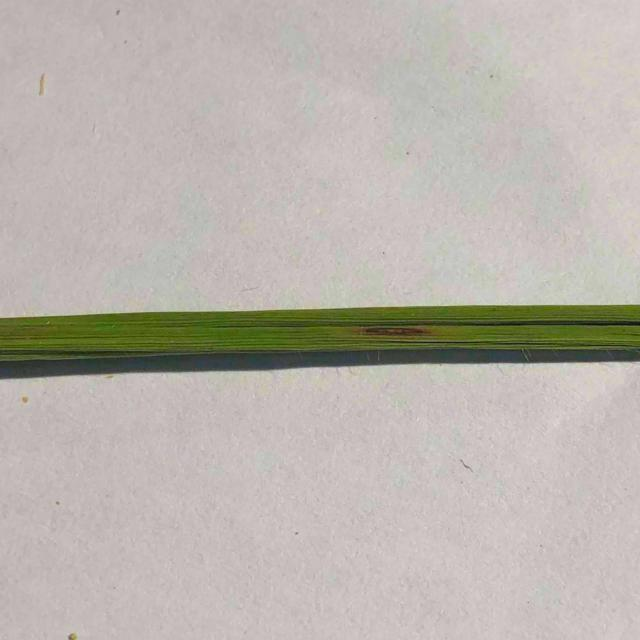Blast: (357, 324, 442, 347)
